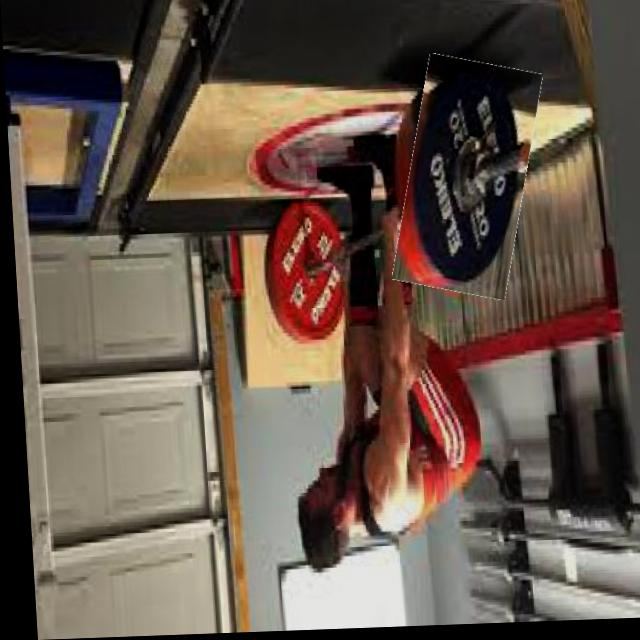barbell: (391, 59, 541, 303)
